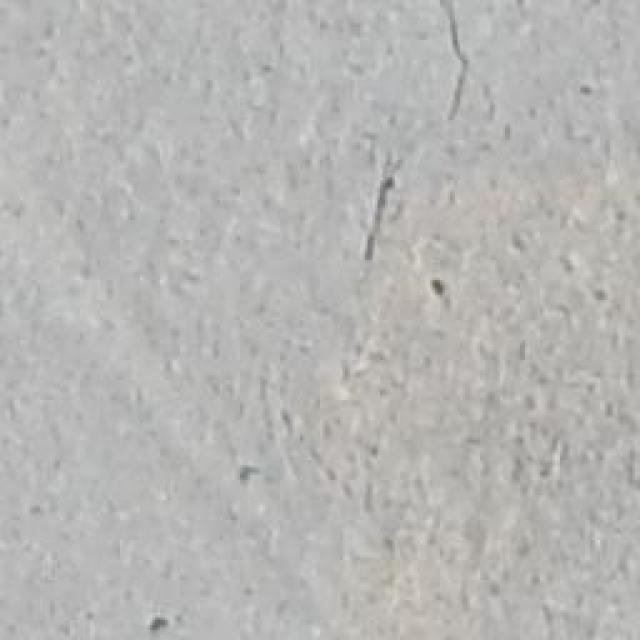concrete-crack: (433, 0, 472, 128), (358, 166, 402, 272)
